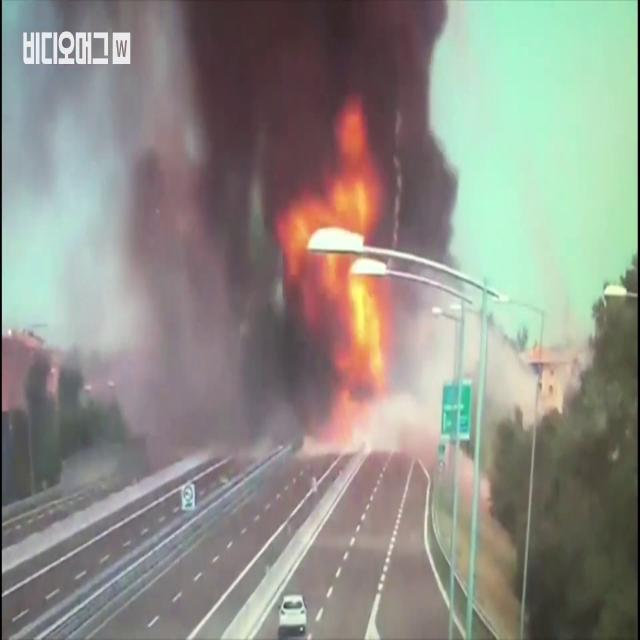explosion: (148, 6, 512, 478)
